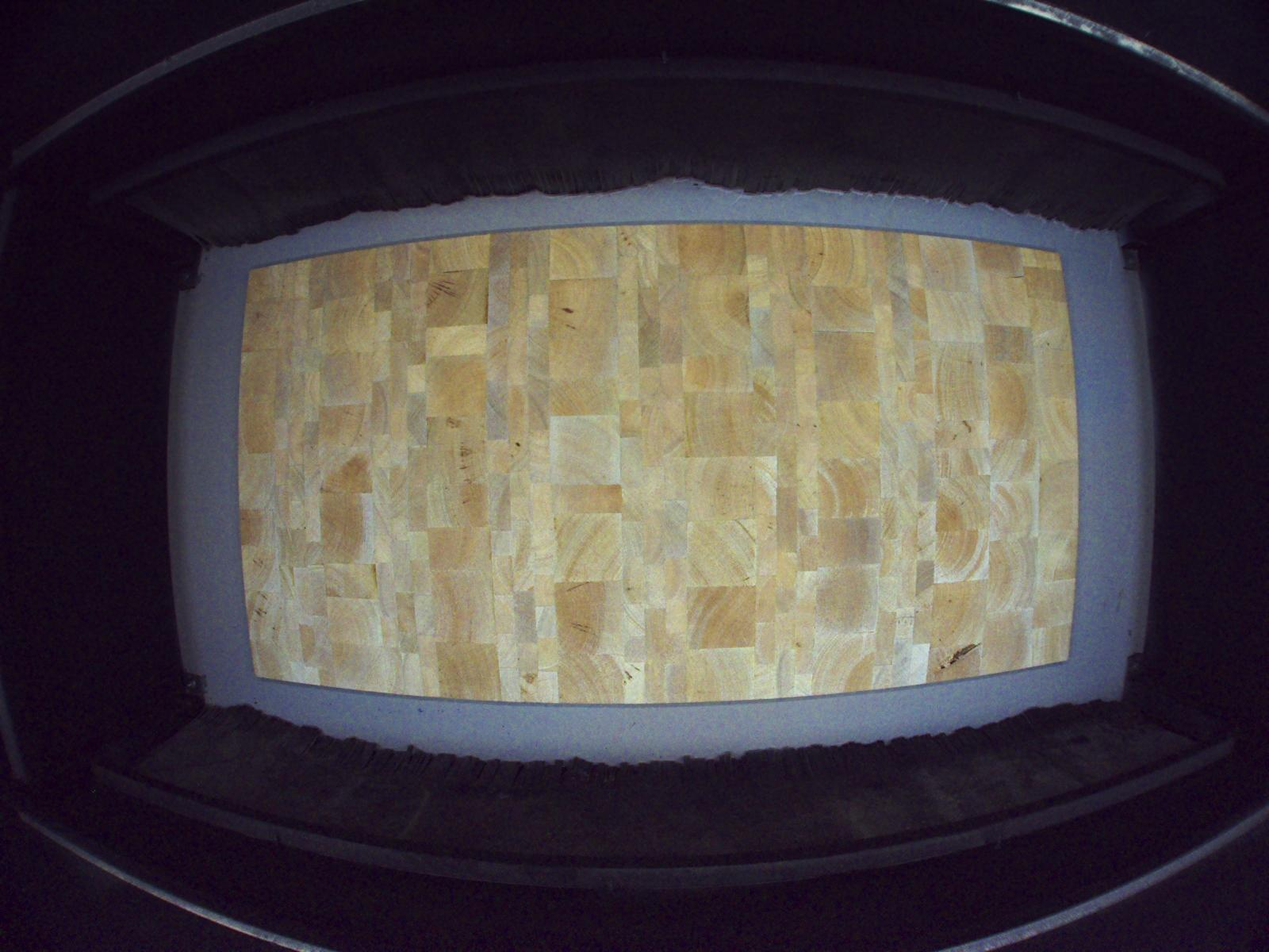nudillo: (931, 640, 983, 677)
